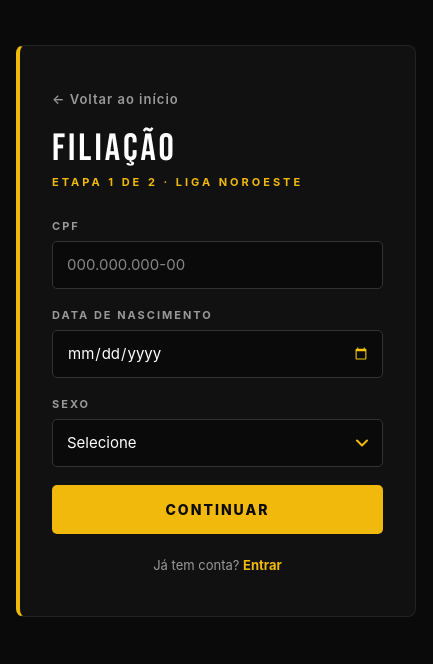
Test: Filiação — Etapa 1 (CPF) › rejeita CPF incompleto
Type "123" into the field with placeholder "000.000.000-00" at (218, 265), box x1=52 y1=241 x2=383 y2=289
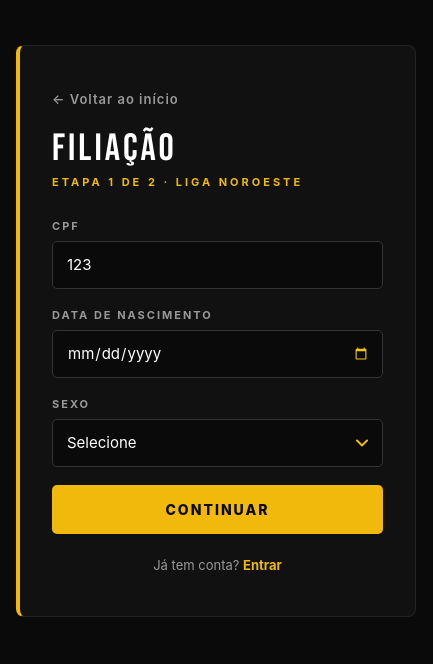
Type "1990-05-10" into the date field at (218, 354), box x1=52 y1=330 x2=383 y2=378
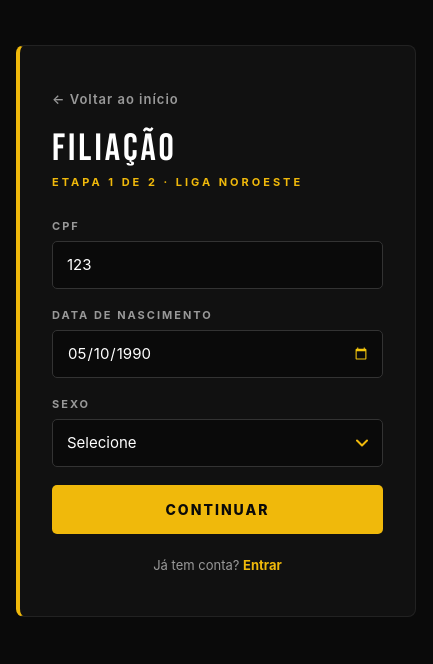
Select "Masculino" in the dropdown at (218, 443), box x1=52 y1=419 x2=383 y2=467
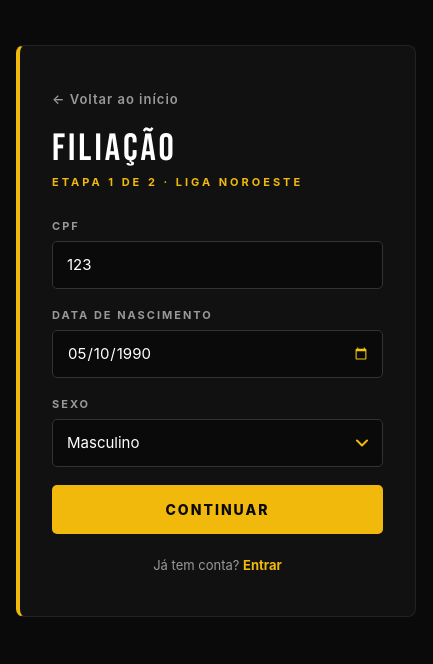
Click the button "Continuar" at (218, 510), box x1=52 y1=485 x2=383 y2=534
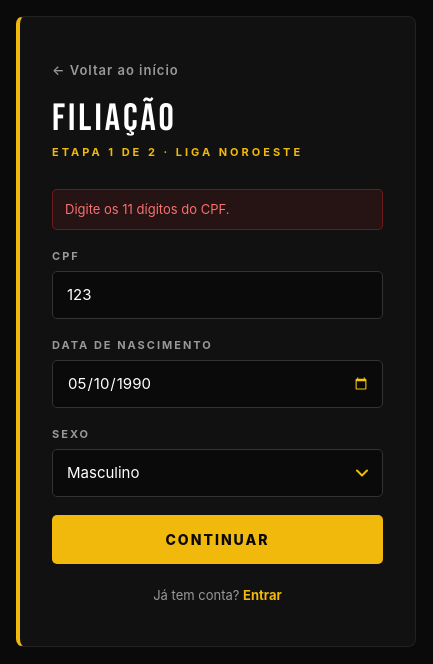
Expected: the text "Digite os 11 dígitos do CPF." is shown, x1=52 y1=188 x2=383 y2=230
